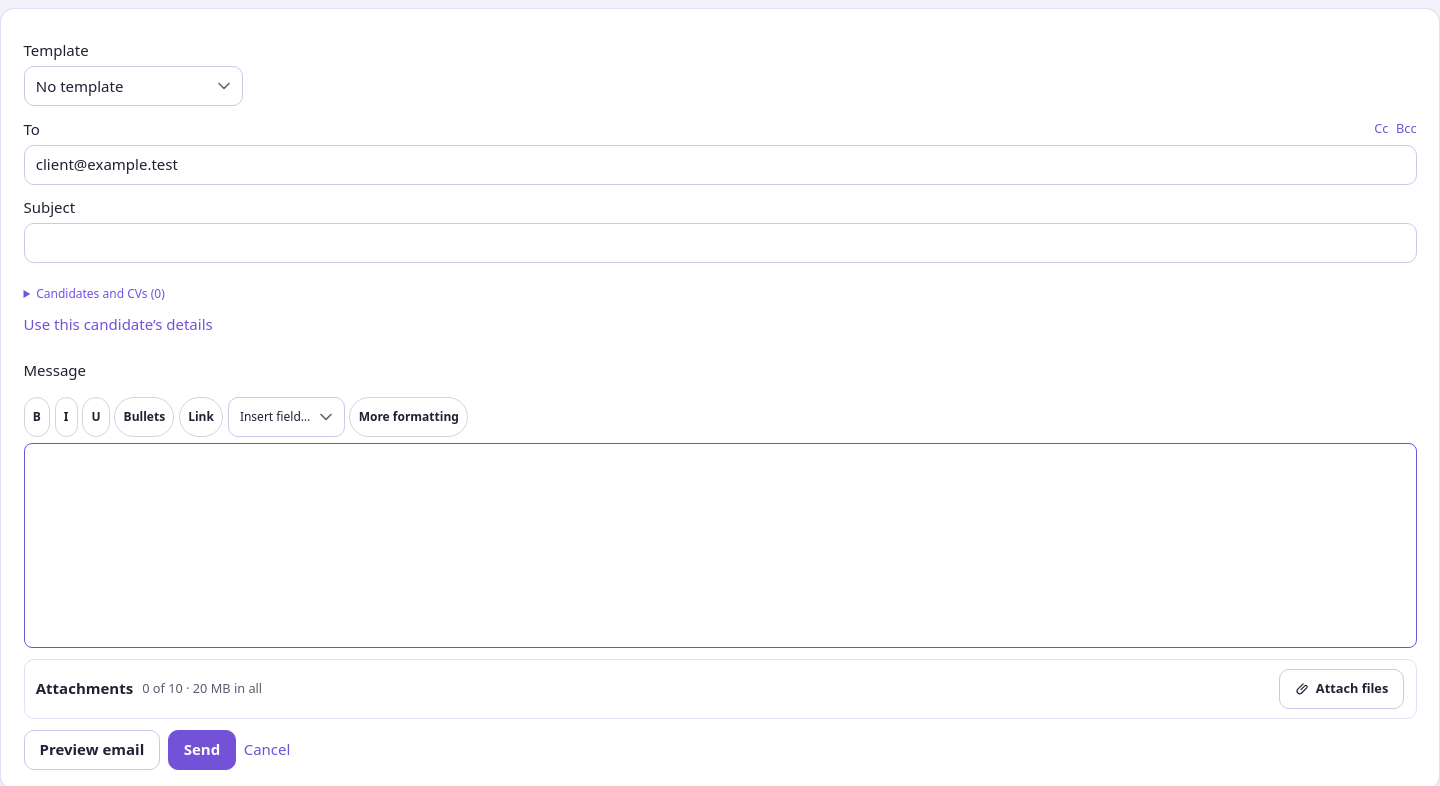
it: never offers other candidates' salary in an email to a candidate
The image size is (1440, 786).
Step 1. Click the heading "Candidates and CVs (0)" → (100, 293), box [36,284,165,302]
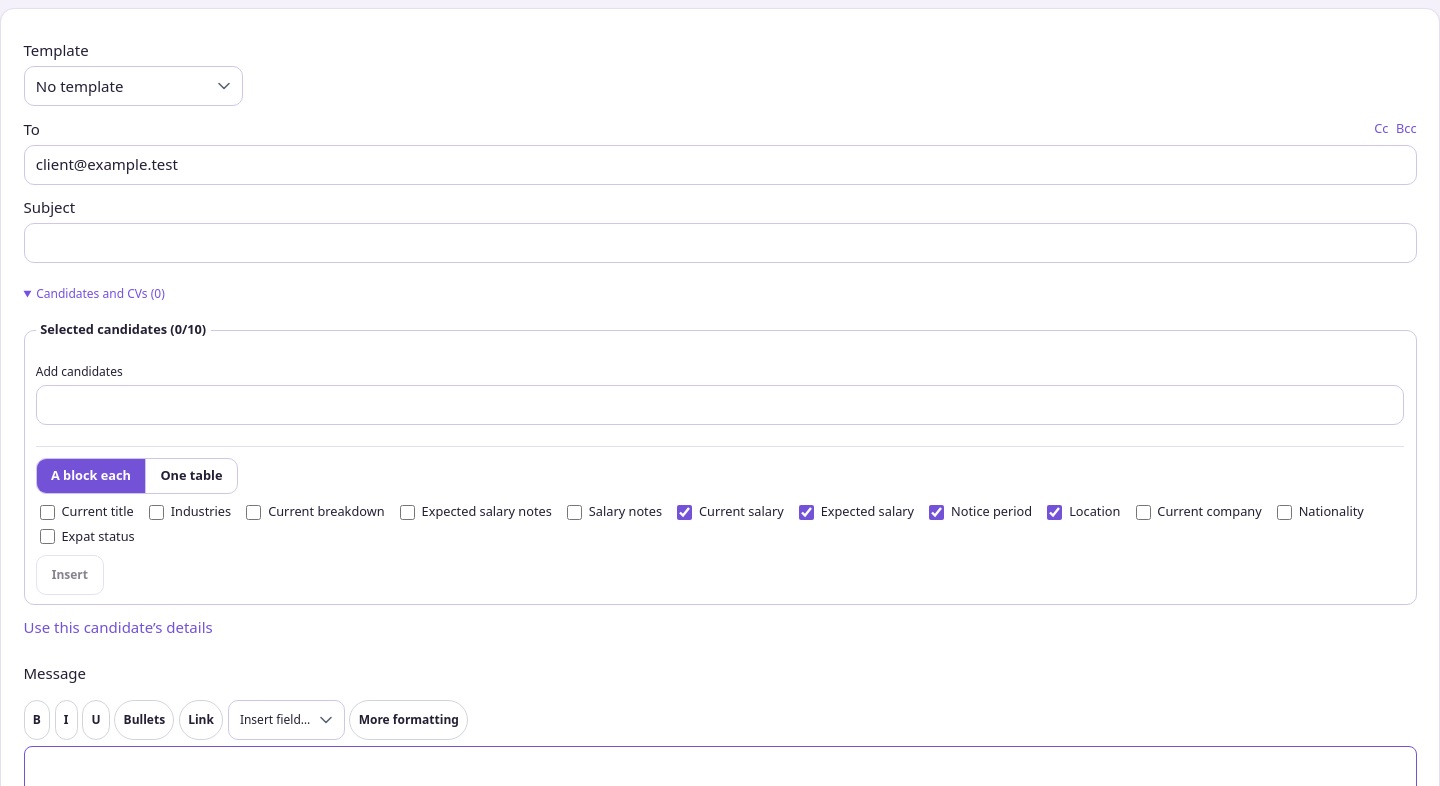
Step 2. Type "Person" into the search field labelled "Add candidates" → (720, 405), box [36,385,1404,425]
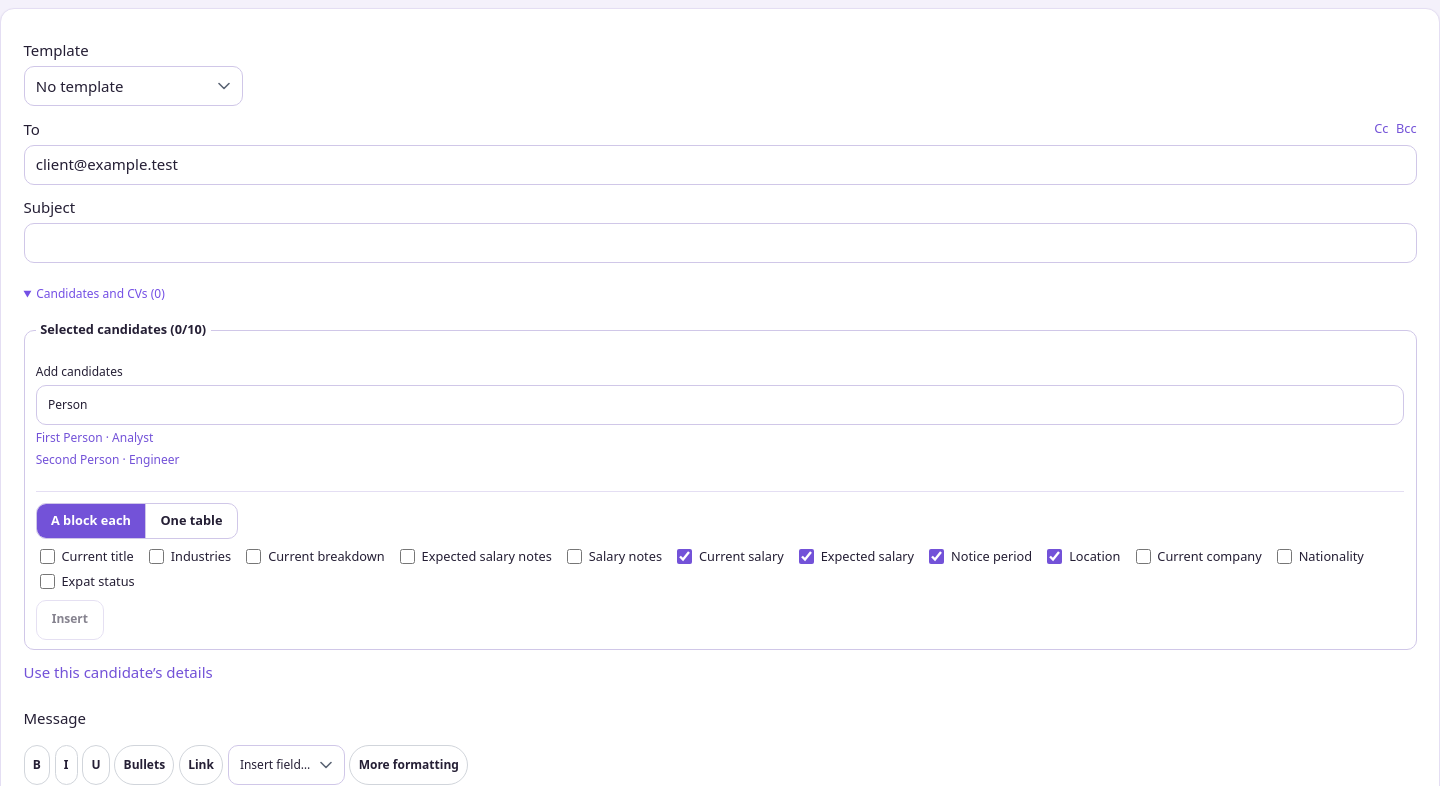
Step 3. Click the button "First Person · Analyst" → (95, 438), box [36,429,153,447]
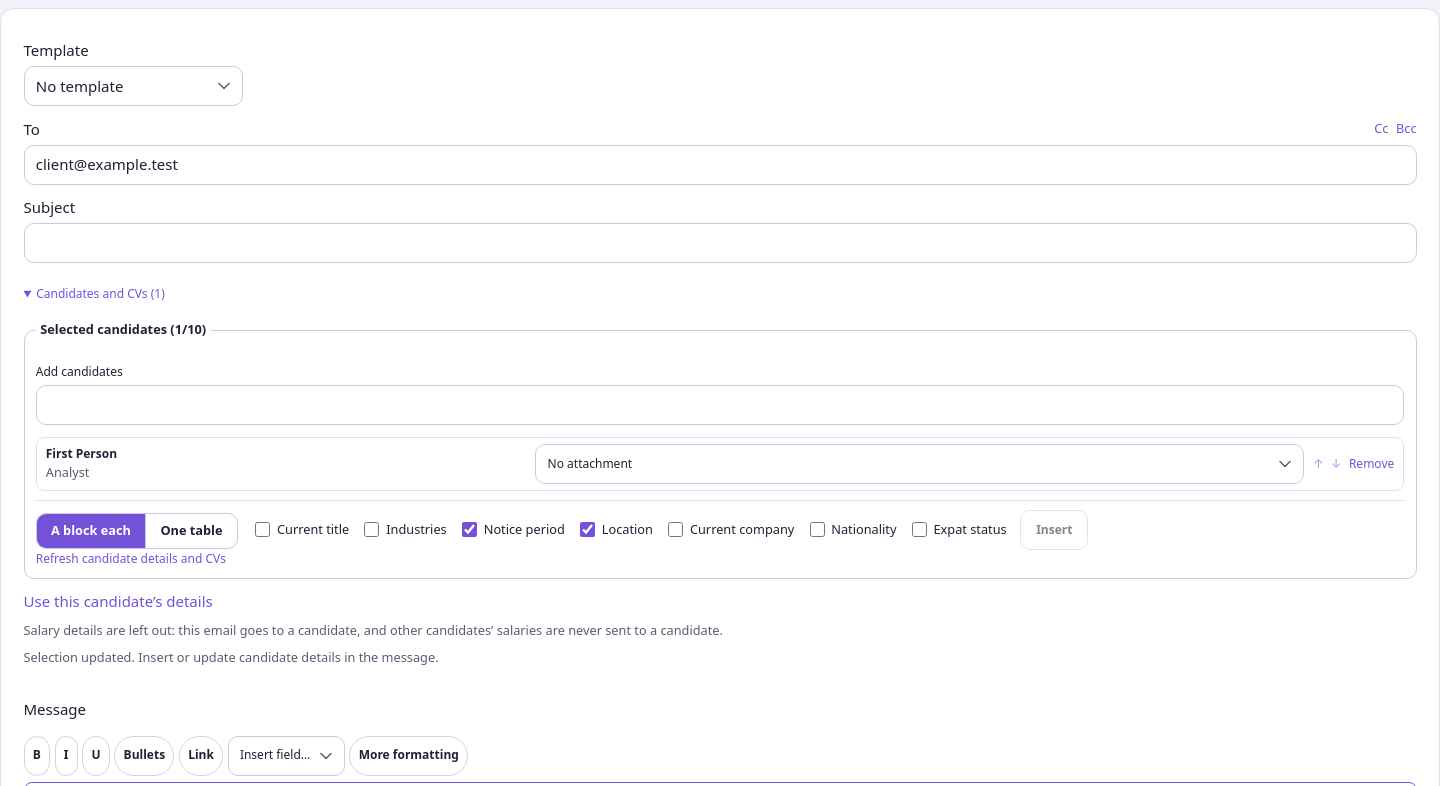
Step 4. Type "Person" into the search field labelled "Add candidates" → (720, 405), box [36,385,1404,425]
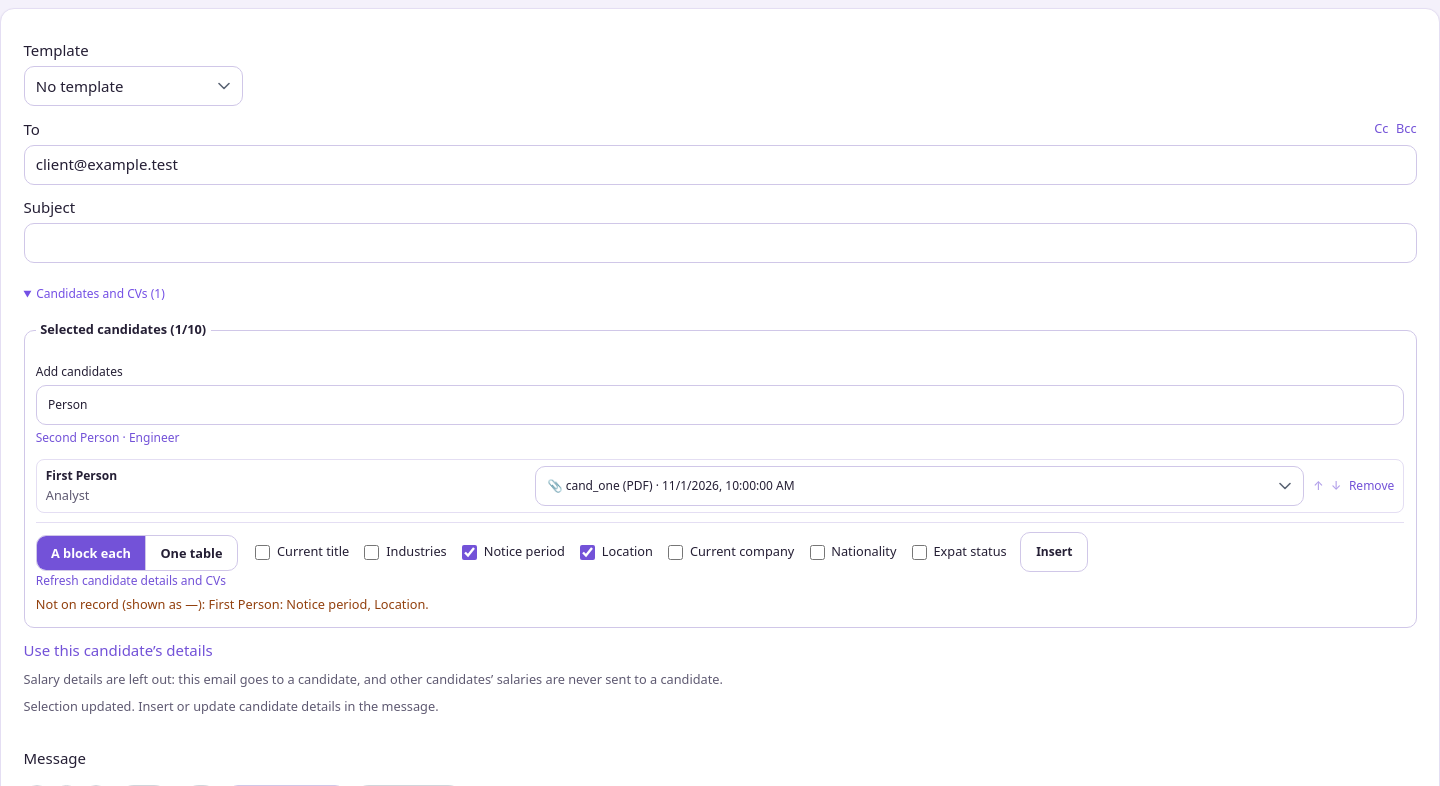
Step 5. Click the button "Second Person · Engineer" → (108, 438), box [36,429,179,447]
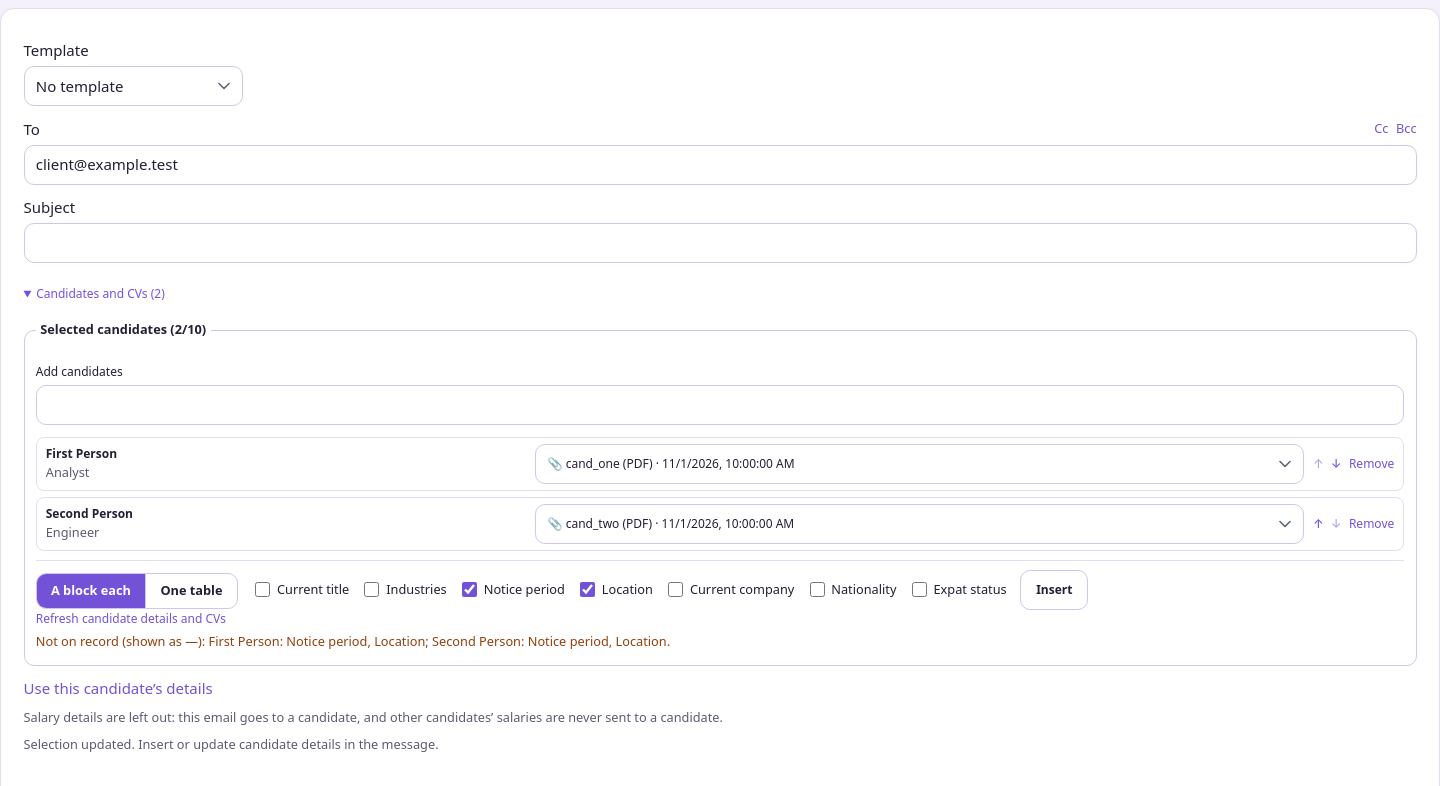
Expected: the label "Expected salary" is not shown
Result: the button with aria-label "Insert candidates into the message" is enabled
Result: the text "Salary details are left out: this email goes to a candidate" is shown at [24,708,723,726]
Step 6. Click the button with aria-label "Insert candidates into the message" → (1054, 590), box [1020,570,1088,610]
(page scrolled)
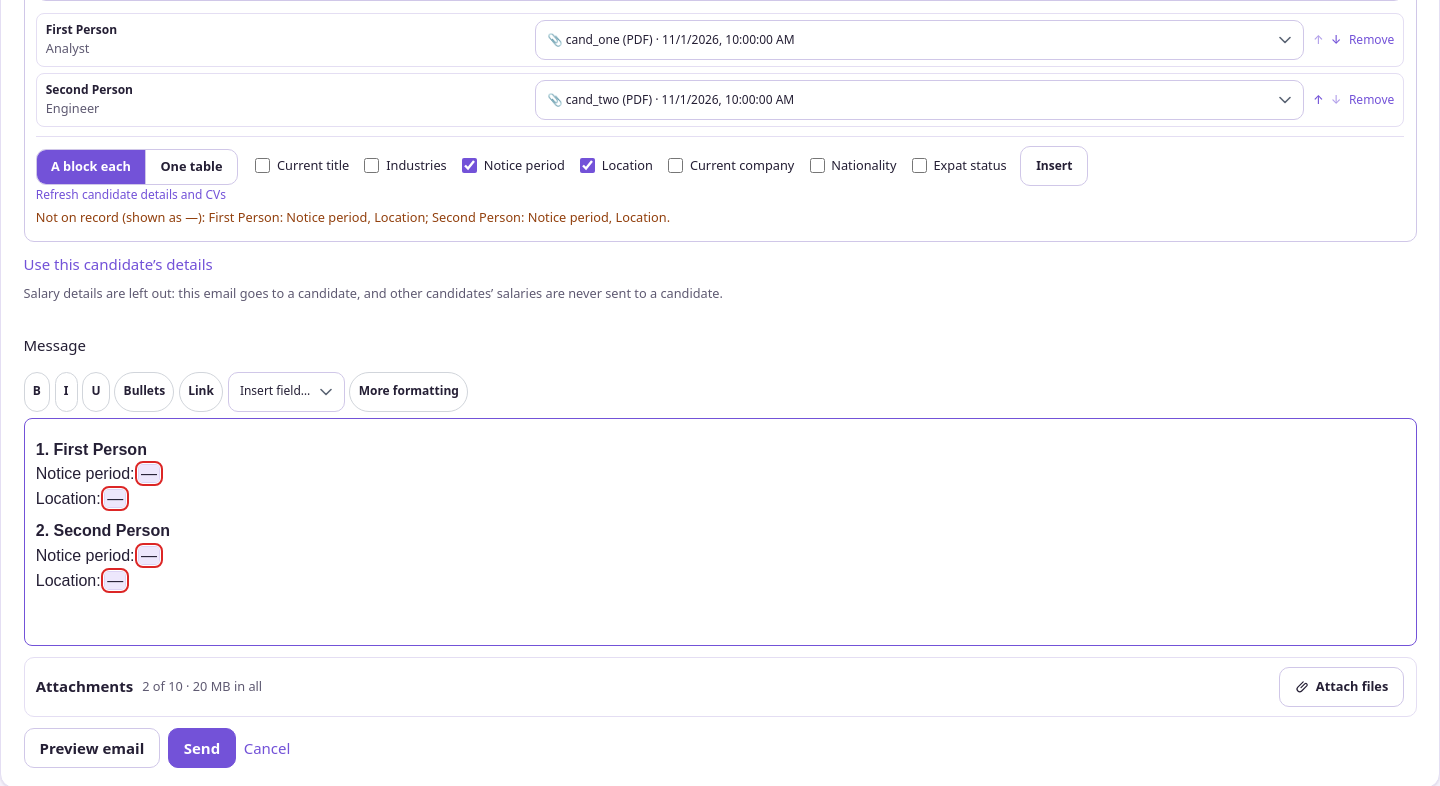
Result: the field named "Message" shows "Second Person" at [24,418,1416,646]
